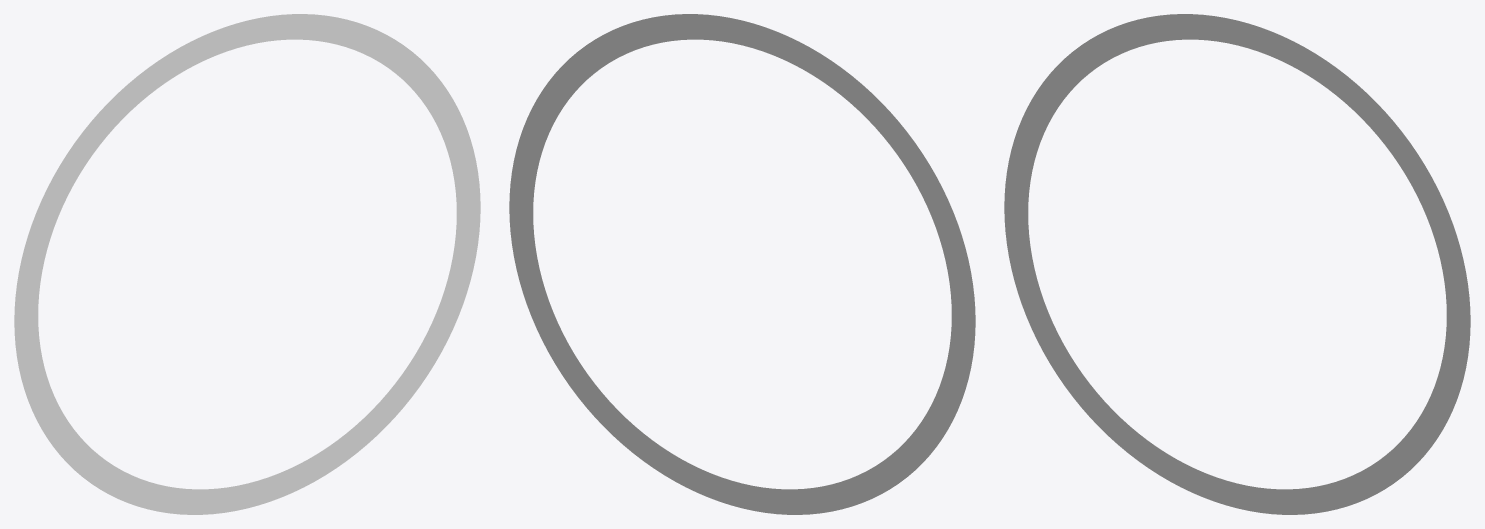
The model's file is LensInner.obj.
3 views of the same model, side by side, from view 1: azimuth 30°, elevation 25°; view 2: azimuth 150°, elevation 25°; view 3: azimuth 330°, elevation 25° (orthographic).
Parts seen in each view (by area): view 1: LensInner; view 2: LensInner; view 3: LensInner.
Boxes of the visible parts, box(x1,y1,x2,y2) form: LensInner: box(14, 14, 480, 514); LensInner: box(509, 14, 975, 514); LensInner: box(1004, 14, 1470, 514).
Size of the model in its own units: 35.2 by 35.2 by 0.
1 material, 1 textured.
